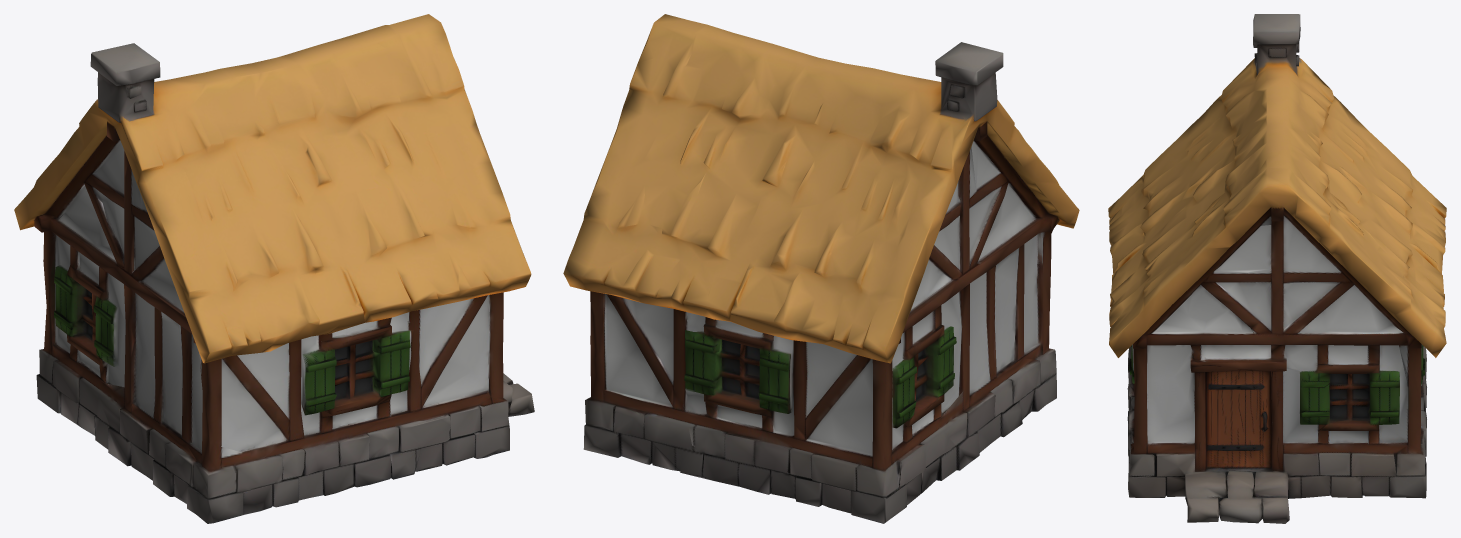
The model's file is medieval_house_a.fbx.
3 views of the same model, side by side, from view 1: azimuth 30°, elevation 25°; view 2: azimuth 150°, elevation 25°; view 3: azimuth 270°, elevation 25° (orthographic). The views are drawn at different scales.
Parts seen in each view (by area): view 1: tripo_node_8140d3b3; view 2: tripo_node_8140d3b3; view 3: tripo_node_8140d3b3.
Boxes of the visible parts, bbox=[...] form: tripo_node_8140d3b3: bbox=[14, 14, 534, 523]; tripo_node_8140d3b3: bbox=[563, 14, 1079, 523]; tripo_node_8140d3b3: bbox=[1108, 14, 1446, 523].
Bounding box in the file's own units: 1.18 × 1.2 × 1.05.
Materials: 1 (1 with a texture image).
